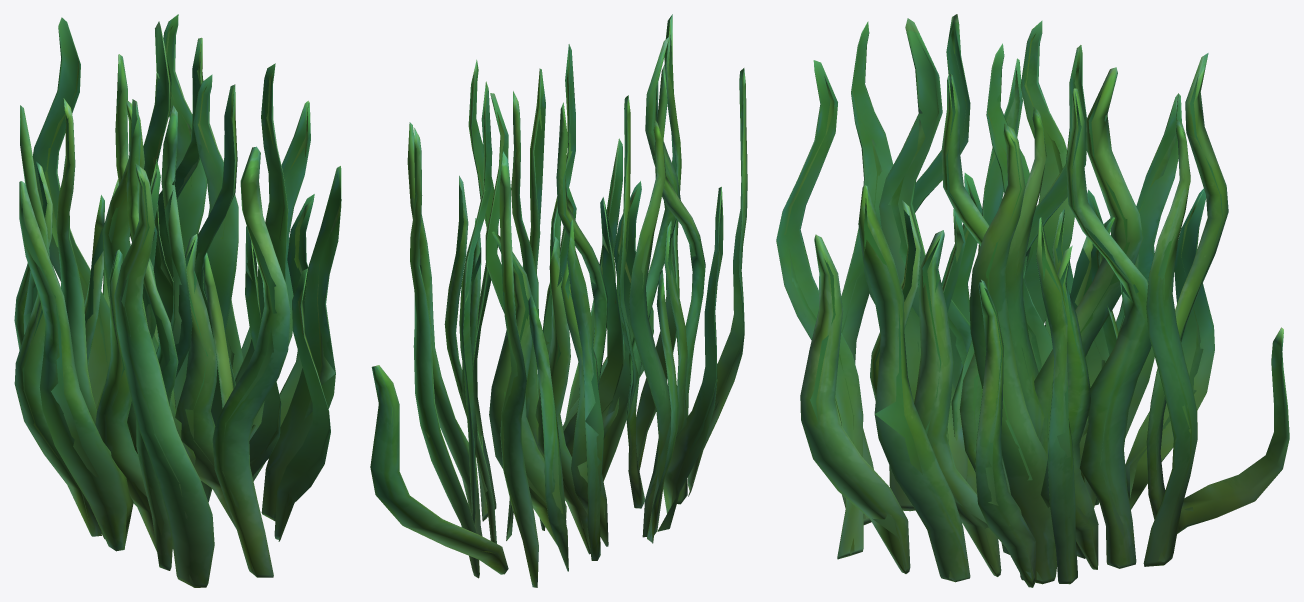
The model's file is Plants_1.fbx.
3 views of the same model, side by side, from view 1: azimuth 30°, elevation 25°; view 2: azimuth 150°, elevation 25°; view 3: azimuth 270°, elevation 25° (orthographic). The views are drawn at different scales.
Parts seen in each view (by area): view 1: low poly plants; view 2: low poly plants; view 3: low poly plants.
Part boxes in pixels (<box>): low poly plants: <box>14,14,341,587</box>; low poly plants: <box>370,14,747,587</box>; low poly plants: <box>776,14,1289,587</box>.
Bounding box in the file's own units: 4.57 × 6.81 × 6.24.
1 material, 1 textured.
